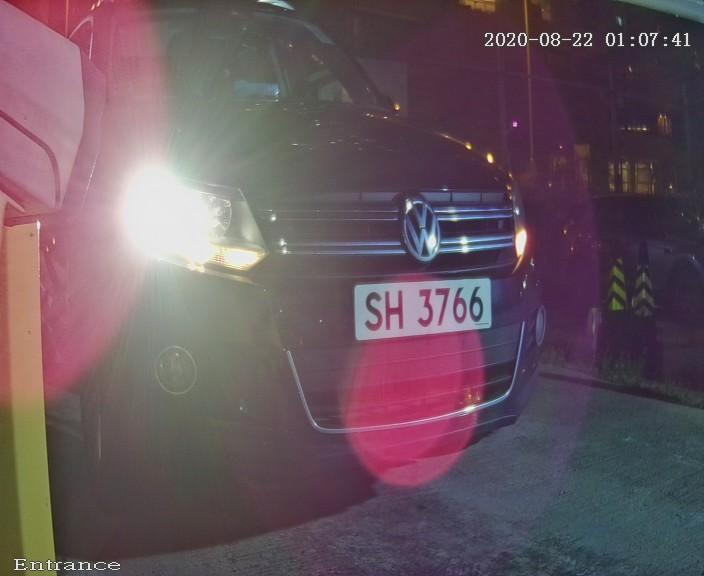Car: (13, 26, 613, 497)
License Plate: (343, 265, 500, 353)
